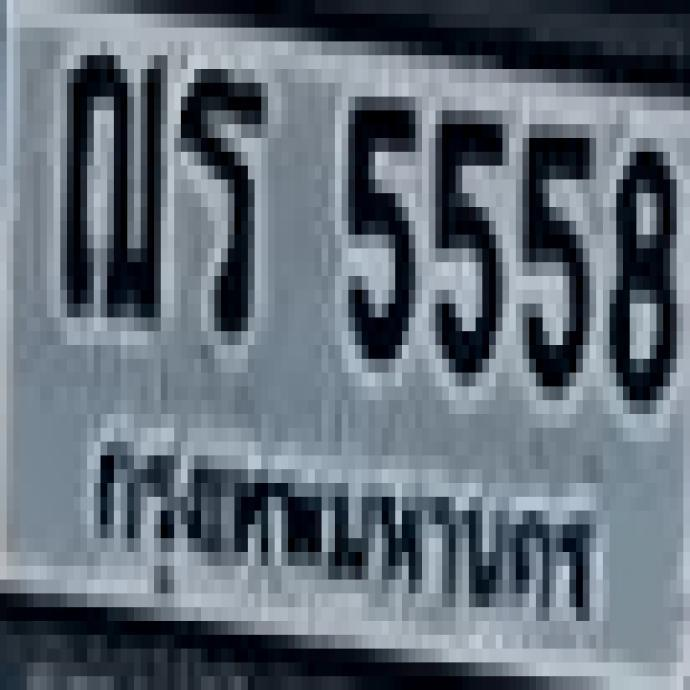5: (516, 113, 587, 387), (428, 98, 498, 371), (341, 85, 410, 356)
8: (604, 128, 672, 399)
A12: (58, 40, 161, 308)
A35: (176, 59, 261, 328)
BKK: (84, 417, 603, 643)
